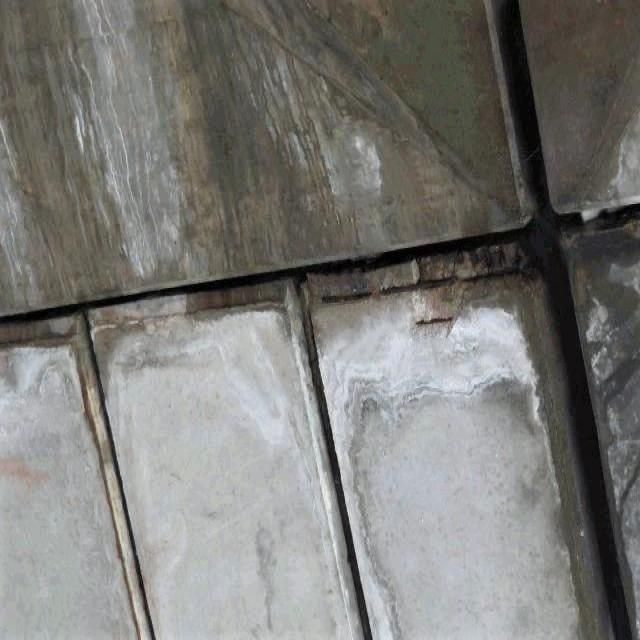Rebar: (320, 264, 524, 304), (410, 310, 457, 338)
